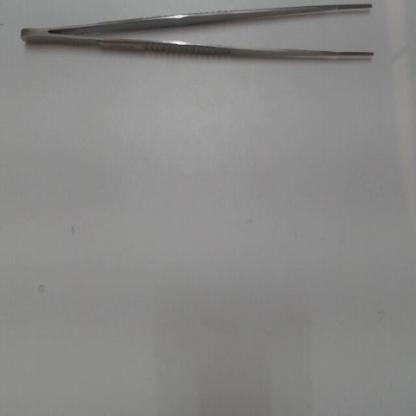DeBakey Dissector: (12, 0, 389, 72)
